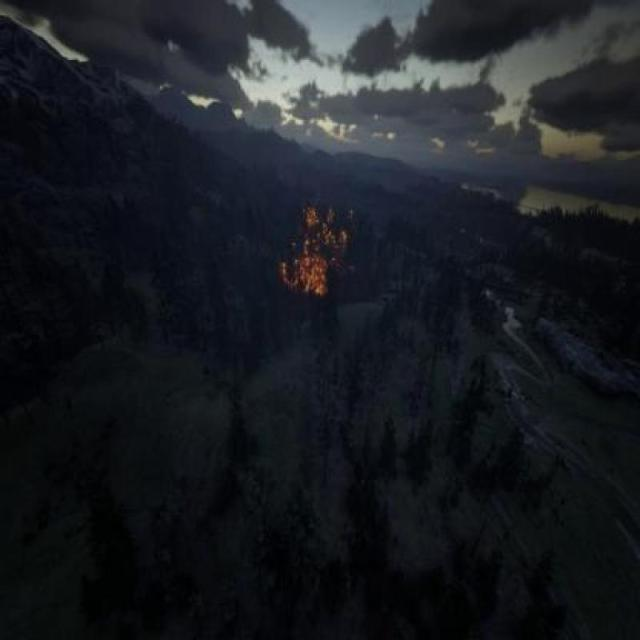Fire: (278, 210, 372, 304)
